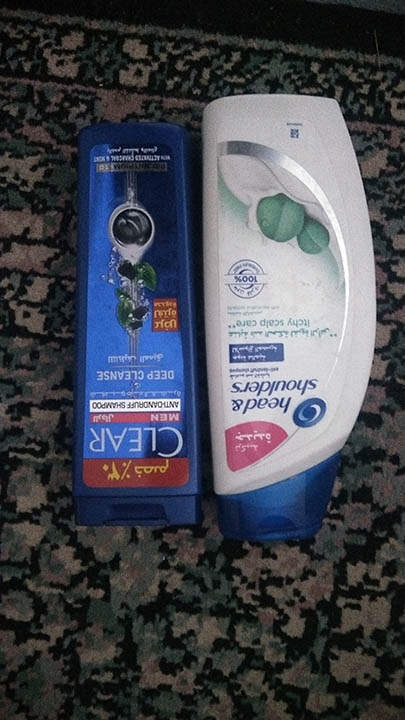Shampoo-Clear 4.7$: (70, 114, 210, 533)
shampoo-green 4.5$: (198, 83, 394, 556)
